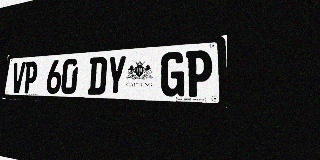0: (60, 58, 79, 94)
6: (46, 59, 63, 94)
D: (87, 56, 107, 95)
G: (160, 51, 185, 97)
P: (185, 49, 212, 97), (23, 61, 38, 93)
V: (11, 62, 26, 93)
Y: (106, 55, 127, 95)
